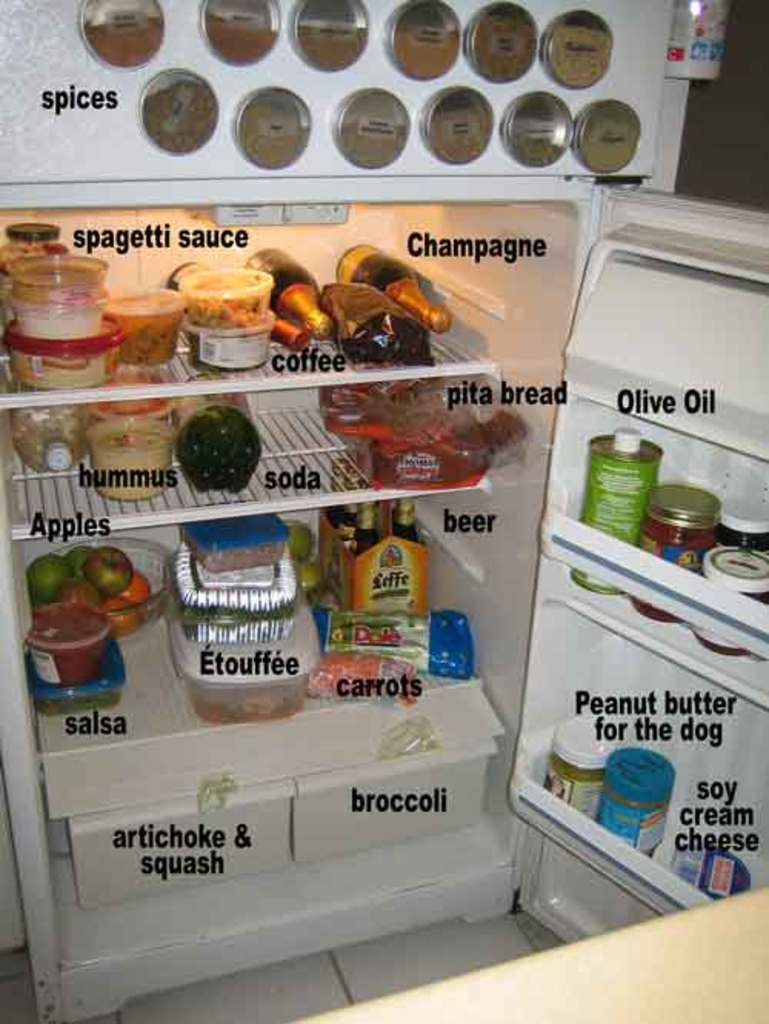refrigerator door: (584, 220, 769, 882)
